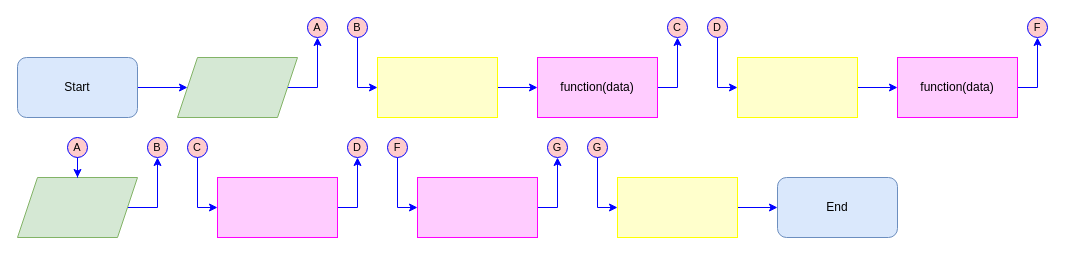
This 1065x255 diagram has some shape labels left out. The centre of each missing label's shape, as x and y in pixels:
data: (x=77, y=207)
data+1: (x=277, y=207)
pointer data+1: (x=477, y=207)
write "Original : ...": (x=437, y=87)
write "pass by reference : ...": (x=677, y=207)
write "pass by value : ...": (x=797, y=87)
x = 0, y = 0: (x=237, y=87)
